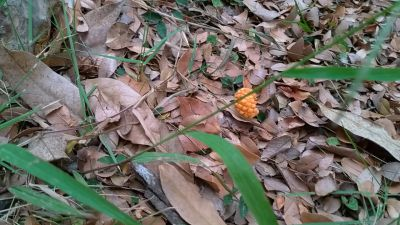eggs: (230, 85, 262, 120)
